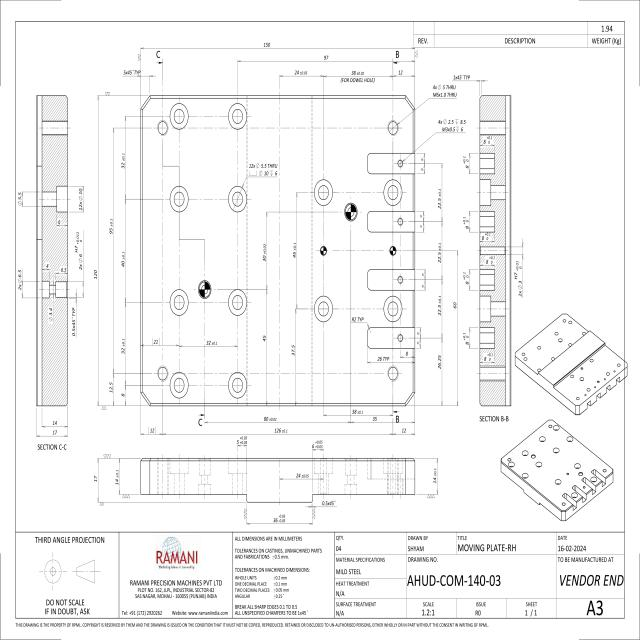dimension: (339, 68, 376, 84), (437, 116, 468, 134), (248, 160, 279, 177), (431, 82, 458, 99), (512, 260, 524, 298), (74, 230, 83, 271), (70, 305, 76, 338), (452, 72, 471, 81), (310, 438, 324, 450), (272, 512, 286, 524), (122, 68, 142, 76), (235, 434, 248, 446), (482, 132, 493, 146), (16, 267, 22, 291), (321, 498, 336, 507), (484, 253, 494, 266), (78, 186, 83, 212), (351, 406, 364, 416), (273, 426, 289, 434), (376, 353, 390, 362), (263, 413, 277, 422), (437, 186, 442, 210), (437, 240, 442, 264), (437, 293, 442, 317), (420, 153, 426, 173), (114, 467, 120, 487), (295, 471, 310, 479), (432, 465, 438, 485), (351, 314, 364, 323), (294, 68, 308, 76), (462, 214, 469, 230), (462, 270, 469, 286), (483, 353, 494, 363), (421, 268, 426, 290), (261, 241, 266, 263), (481, 230, 490, 242), (462, 155, 469, 170), (421, 210, 426, 231), (205, 338, 218, 346), (421, 328, 426, 348), (120, 150, 125, 170), (120, 249, 125, 269), (120, 336, 125, 356), (151, 336, 161, 346), (148, 424, 158, 434), (48, 306, 54, 322), (462, 331, 468, 346), (109, 217, 114, 235), (17, 190, 22, 207), (290, 342, 296, 356), (108, 380, 114, 394), (59, 265, 68, 274), (293, 240, 298, 256), (92, 268, 98, 281), (262, 40, 271, 48), (437, 355, 442, 369), (51, 417, 58, 427), (51, 428, 58, 437), (399, 425, 406, 434), (44, 260, 50, 270), (371, 414, 378, 422), (323, 52, 329, 61), (93, 473, 98, 483), (452, 302, 458, 310), (398, 67, 403, 76), (262, 334, 267, 343), (56, 218, 62, 225), (404, 350, 408, 358), (121, 392, 125, 398)
